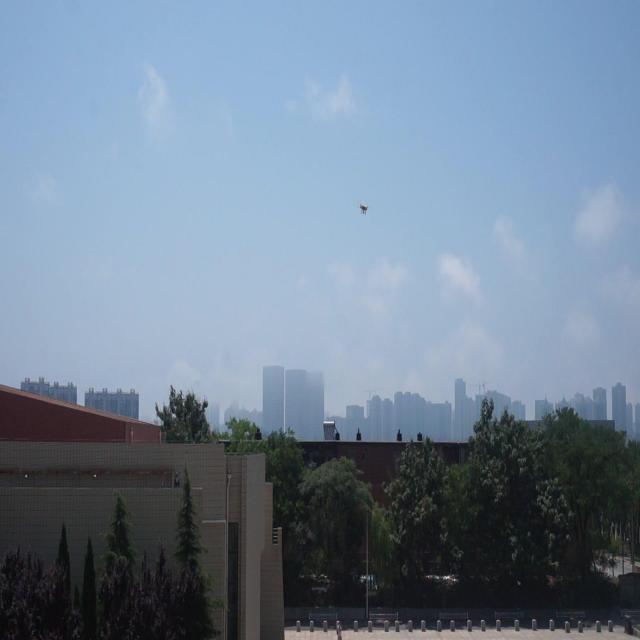UAV: (357, 203, 371, 215)
